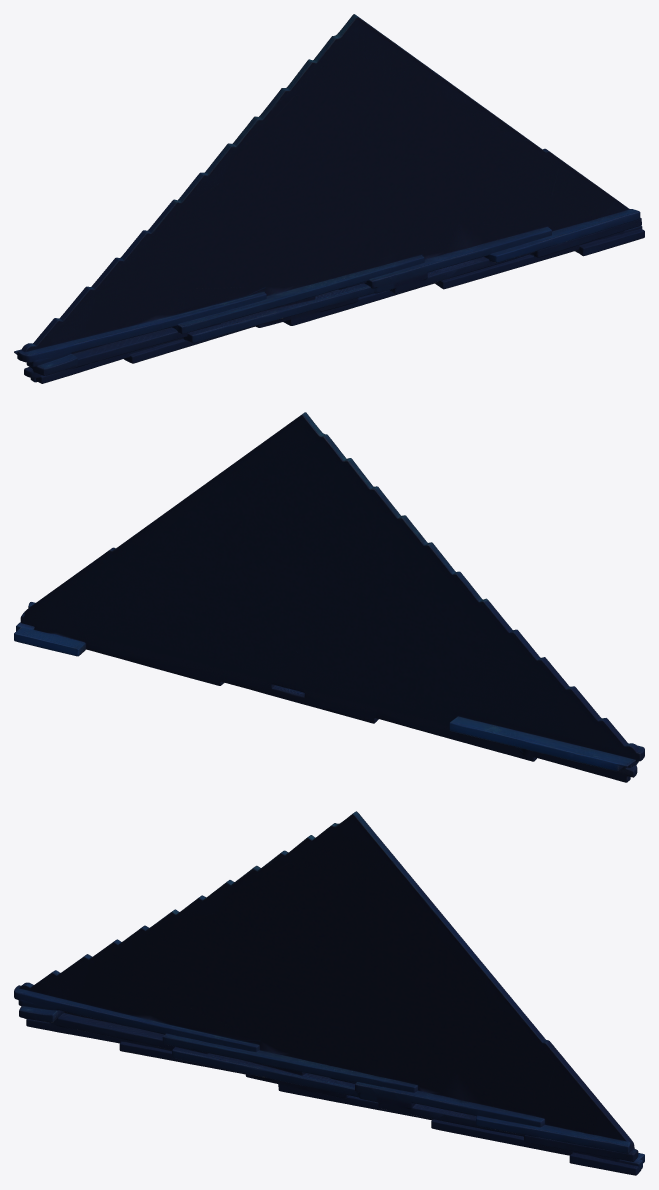
Rendered from arrow_bad.glb.
3 renders of one model, top to bottom at view 1: azimuth 30°, elevation 25°; view 2: azimuth 150°, elevation 25°; view 3: azimuth 330°, elevation 25°, orthographic.
Size of the model in its own units: 1.9 by 0.8484 by 0.1163.
1 material, 1 textured.
